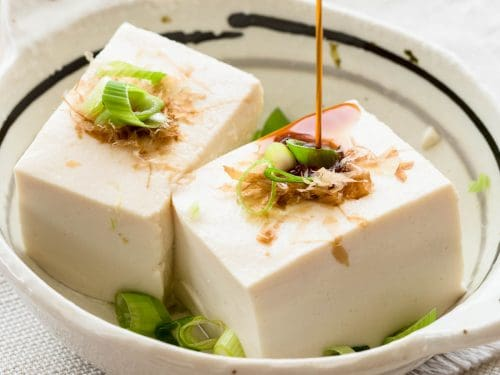Tahu: (23, 30, 278, 290), (214, 107, 430, 375)
